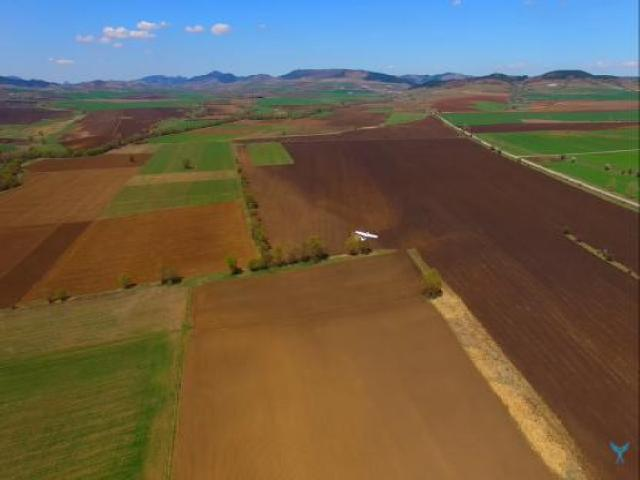uav: (352, 221, 382, 250)
